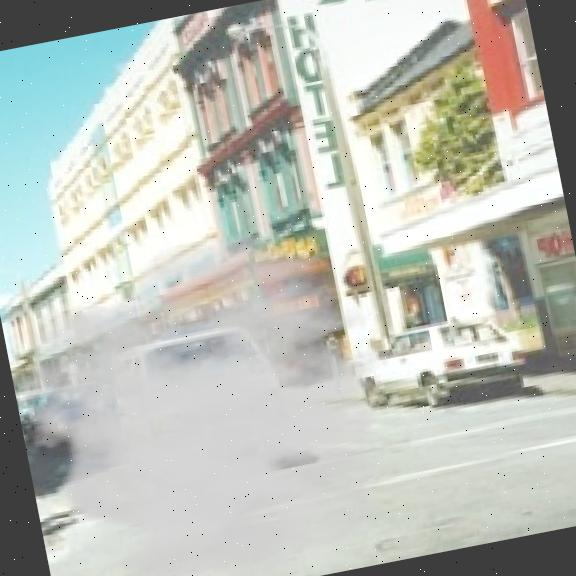smoke: (0, 200, 456, 576)
